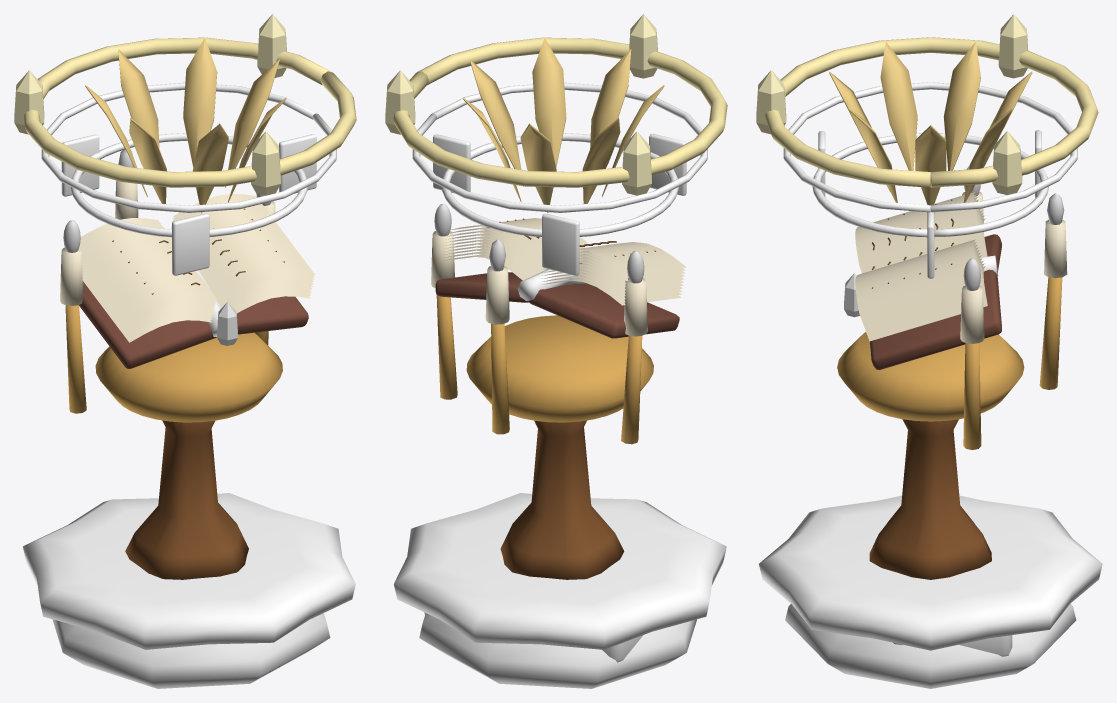
The model's file is book-5.fbx.
3 views of the same model, side by side, from view 1: azimuth 30°, elevation 25°; view 2: azimuth 150°, elevation 25°; view 3: azimuth 270°, elevation 25° (orthographic).
Visible parts, largest first — view 1: SuperPlinth, Pages_Organic, Turret_Metal, Turret_Organic, Ring03_SuperGlow, LibraryStone, RuneCircle.001, Petals_Organic, RuneCircle, Bookmark, Turret_Glow; view 2: SuperPlinth, Turret_Metal, Turret_Organic, Ring03_SuperGlow, Pages_Organic, LibraryStone, RuneCircle.001, Petals_Organic, RuneCircle, Turret_Glow, BookSpine; view 3: SuperPlinth, Turret_Metal, Turret_Organic, Pages_Organic, Ring03_SuperGlow, LibraryStone, RuneCircle.001, RuneCircle, Turret_Glow, Petals_Organic, Base_Bark.
Boxes of the visible parts, x1,y1,x2,y2 form: SuperPlinth: (23,493,355,649); Pages_Organic: (79,194,315,368); Turret_Metal: (85,38,286,422); Turret_Organic: (60,180,275,579); Ring03_SuperGlow: (14,14,356,195); LibraryStone: (52,613,330,688); RuneCircle.001: (41,82,336,212); Petals_Organic: (61,134,316,275); RuneCircle: (70,133,307,237); Bookmark: (217,302,237,345); Turret_Glow: (63,149,270,252); SuperPlinth: (394,493,726,649); Turret_Metal: (463,38,664,422); Turret_Organic: (431,231,647,579); Ring03_SuperGlow: (385,14,727,195); Pages_Organic: (435,218,686,338); LibraryStone: (419,613,696,688); RuneCircle.001: (412,82,707,212); Petals_Organic: (433,133,686,275); RuneCircle: (441,133,678,236); Turret_Glow: (434,204,644,283); BookSpine: (517,269,585,301); SuperPlinth: (759,495,1102,650); Turret_Metal: (829,41,1032,421); Turret_Organic: (869,192,1067,579); Pages_Organic: (855,191,1001,369); Ring03_SuperGlow: (756,14,1098,195); LibraryStone: (785,604,1076,688); RuneCircle.001: (783,82,1077,212); RuneCircle: (812,133,1048,237); Turret_Glow: (963,166,1064,290); Petals_Organic: (818,130,1041,278); Base_Bark: (893,635,1012,656).
Size of the model in its own units: 111 by 202 by 112.
